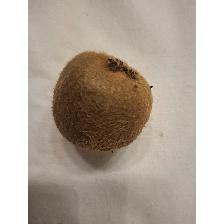Kiwi: (50, 46, 154, 154)
